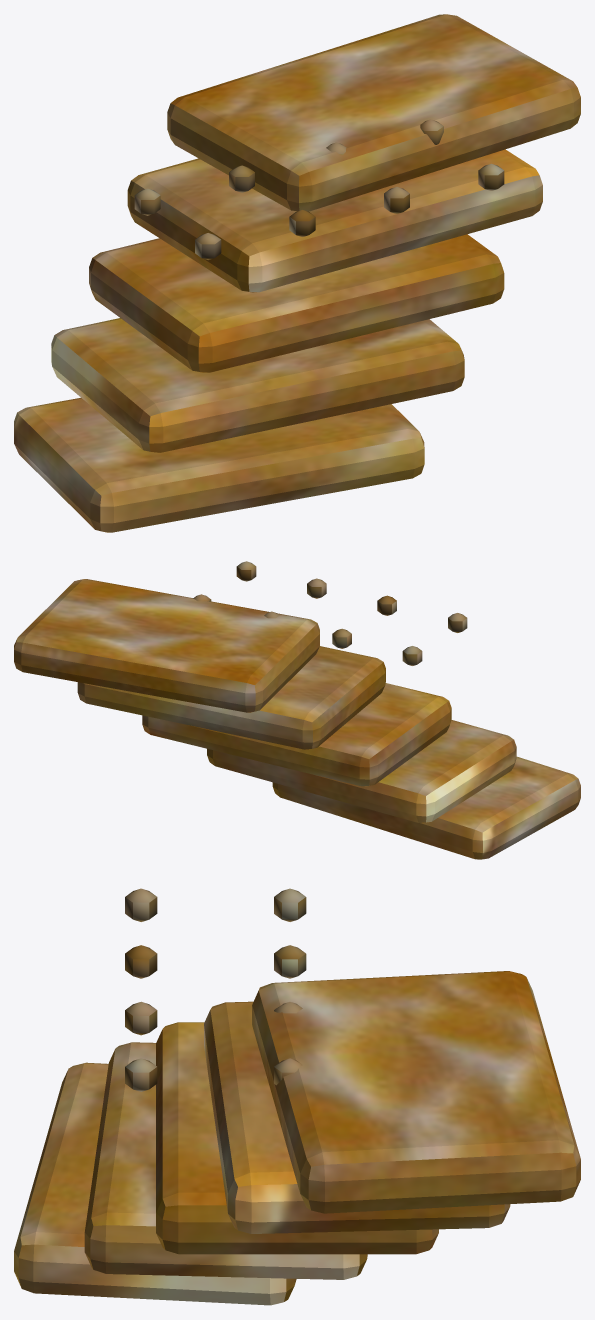
The model's file is Food_tempe.fbx.
3 renders of one model, top to bottom at view 1: azimuth 30°, elevation 25°; view 2: azimuth 150°, elevation 25°; view 3: azimuth 270°, elevation 25°, orthographic. The views are drawn at different scales.
Visible parts, largest first — view 1: Food_tempe; view 2: Food_tempe; view 3: Food_tempe.
Part boxes in pixels (x1,y1,x2,y2): Food_tempe: (14, 14, 580, 532); Food_tempe: (14, 561, 580, 859); Food_tempe: (14, 888, 580, 1305).
Size of the model in its own units: 0.1114 by 0.046 by 0.0762.
